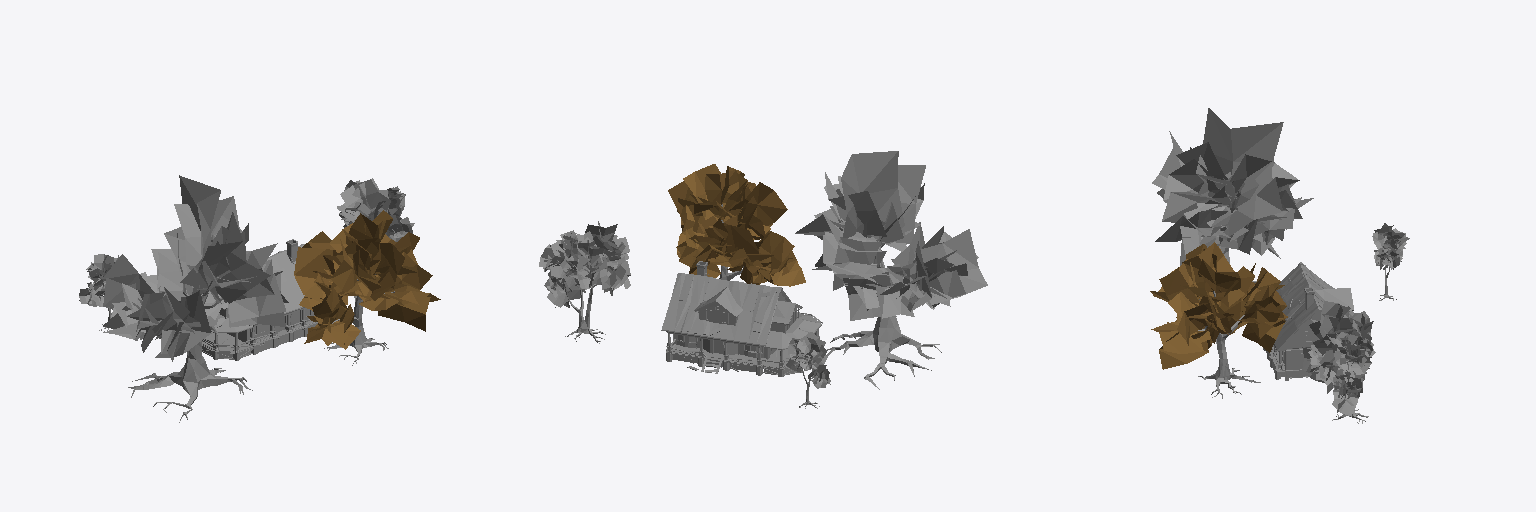
File: DestructiveObjects.obj
3 renders of one model, left to right at view 1: azimuth 30°, elevation 25°; view 2: azimuth 150°, elevation 25°; view 3: azimuth 270°, elevation 25°, orthographic.
Parts seen in each view (by area): view 1: dry_tree_dry_tree_dry_branch, oak_tree_oak_tree_oak_tree, ash_tree_ash_tree_tree_branch, dry_tree_dry_tree_bark, Object048_Térháló.020_Materi, aspen_tree_aspen_tree_tree_bran, Object009_Térháló.010_Materi, Object002_Térháló.018_Materi, oak_tree_oak_tree_bark.001; view 2: dry_tree_dry_tree_dry_branch, oak_tree_oak_tree_oak_tree, Object048_Térháló.020_Materi, ash_tree_ash_tree_tree_branch, dry_tree_dry_tree_bark, Object001_Térháló.017_Materi, aspen_tree_aspen_tree_tree_bran, Object002_Térháló.018_Materi, Object009_Térháló.010_Materi, ash_tree_ash_tree_bark.001; view 3: dry_tree_dry_tree_dry_branch, oak_tree_oak_tree_oak_tree, ash_tree_ash_tree_tree_branch, Object048_Térháló.020_Materi, aspen_tree_aspen_tree_tree_bran, oak_tree_oak_tree_bark.001.
Boxes of the visible parts, <box> form: dry_tree_dry_tree_dry_branch: <box>102,175,288,361</box>; oak_tree_oak_tree_oak_tree: <box>294,210,440,349</box>; ash_tree_ash_tree_tree_branch: <box>337,178,414,241</box>; dry_tree_dry_tree_bark: <box>128,284,252,422</box>; Object048_Térháló.020_Materi: <box>228,244,317,344</box>; aspen_tree_aspen_tree_tree_bran: <box>79,254,118,306</box>; Object009_Térháló.010_Materi: <box>202,314,252,358</box>; Object002_Térháló.018_Materi: <box>202,268,315,359</box>; oak_tree_oak_tree_bark.001: <box>324,274,394,365</box>; dry_tree_dry_tree_dry_branch: <box>795,151,987,320</box>; oak_tree_oak_tree_oak_tree: <box>668,164,805,286</box>; Object048_Térháló.020_Materi: <box>661,273,791,363</box>; ash_tree_ash_tree_tree_branch: <box>539,221,630,307</box>; dry_tree_dry_tree_bark: <box>826,240,941,389</box>; Object001_Térháló.017_Materi: <box>694,287,801,332</box>; aspen_tree_aspen_tree_tree_bran: <box>786,332,830,388</box>; Object002_Térháló.018_Materi: <box>666,290,822,375</box>; Object009_Térháló.010_Materi: <box>763,313,820,374</box>; ash_tree_ash_tree_bark.001: <box>565,255,605,343</box>; dry_tree_dry_tree_dry_branch: <box>1152,108,1313,265</box>; oak_tree_oak_tree_oak_tree: <box>1150,242,1287,369</box>; ash_tree_ash_tree_tree_branch: <box>1302,301,1375,416</box>; Object048_Térháló.020_Materi: <box>1269,262,1353,370</box>; aspen_tree_aspen_tree_tree_bran: <box>1372,223,1409,269</box>; oak_tree_oak_tree_bark.001: <box>1198,291,1260,398</box>.
Size of the model in its own units: 34.57 by 17.99 by 20.75.